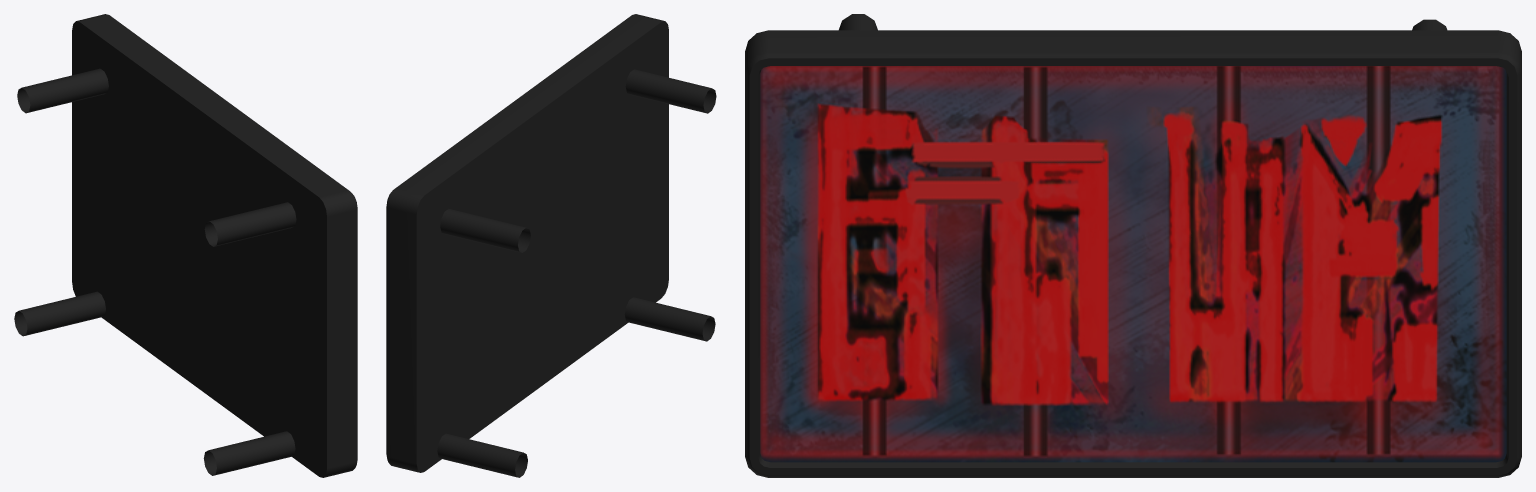
File: SM_TrainSign_03.fbx
3 views of the same model, side by side, from view 1: azimuth 30°, elevation 25°; view 2: azimuth 150°, elevation 25°; view 3: azimuth 270°, elevation 25° (orthographic). The views are drawn at different scales.
Parts seen in each view (by area): view 1: polySurface1150; view 2: polySurface1150; view 3: polySurface1150.
Boxes of the visible parts, x1,y1,x2,y2 form: polySurface1150: (14, 14, 357, 477); polySurface1150: (386, 14, 716, 477); polySurface1150: (745, 14, 1521, 477).
Size of the model in its own units: 94.9 by 230 by 379.
